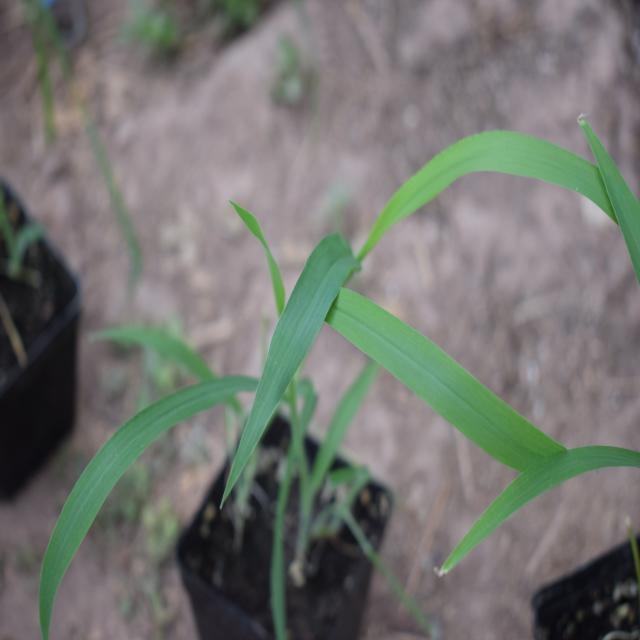crabgrass: (155, 118, 579, 550)
